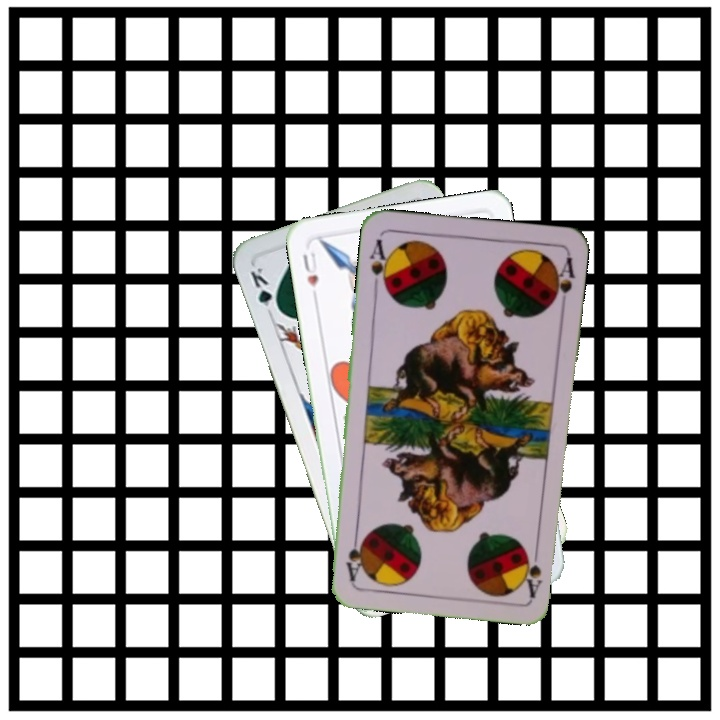GK: (246, 263, 283, 320)
HU: (298, 248, 321, 290)
SA: (365, 235, 393, 294), (521, 540, 545, 599)
